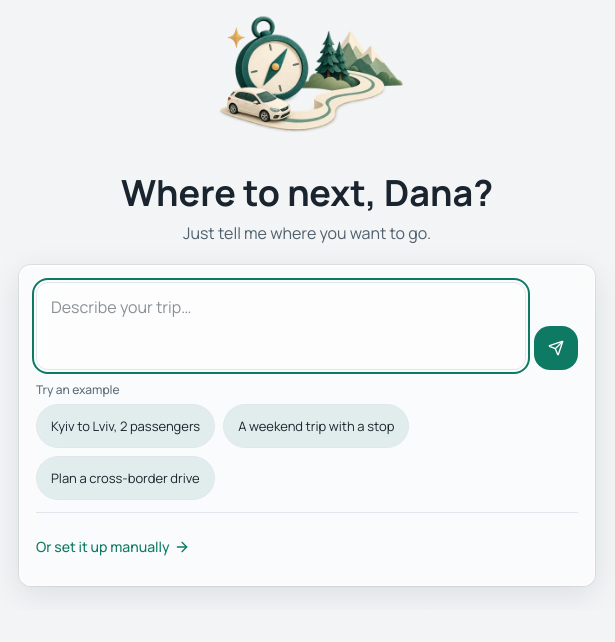
Scenario: AI composer › example chip fills the full wrapped sentence, focuses the textarea and does not send
Click the button "Kyiv to Lviv, 2 passengers" at (126, 426), box 36,404 -> 215,448
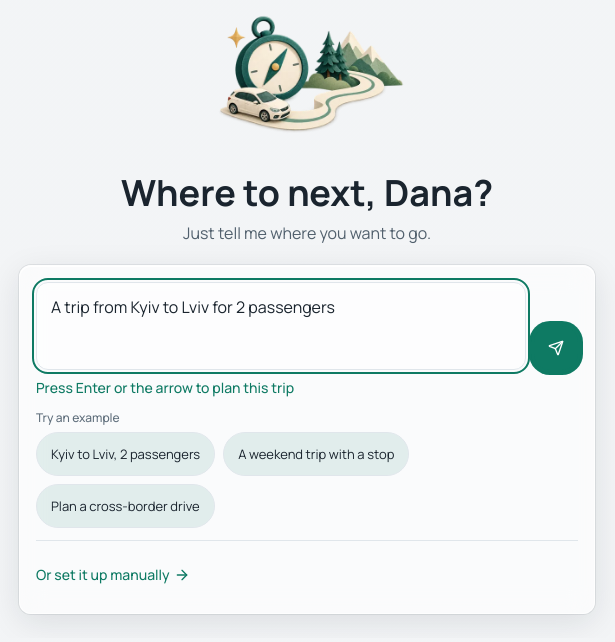
expect the text box holds "A trip from Kyiv to Lviv for 2 passengers": met, box 36,282 -> 526,370
